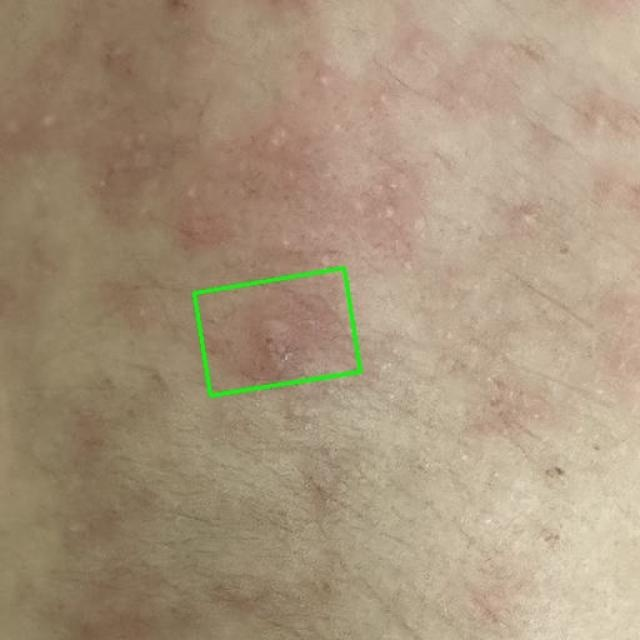Scabies: (194, 269, 361, 396)
